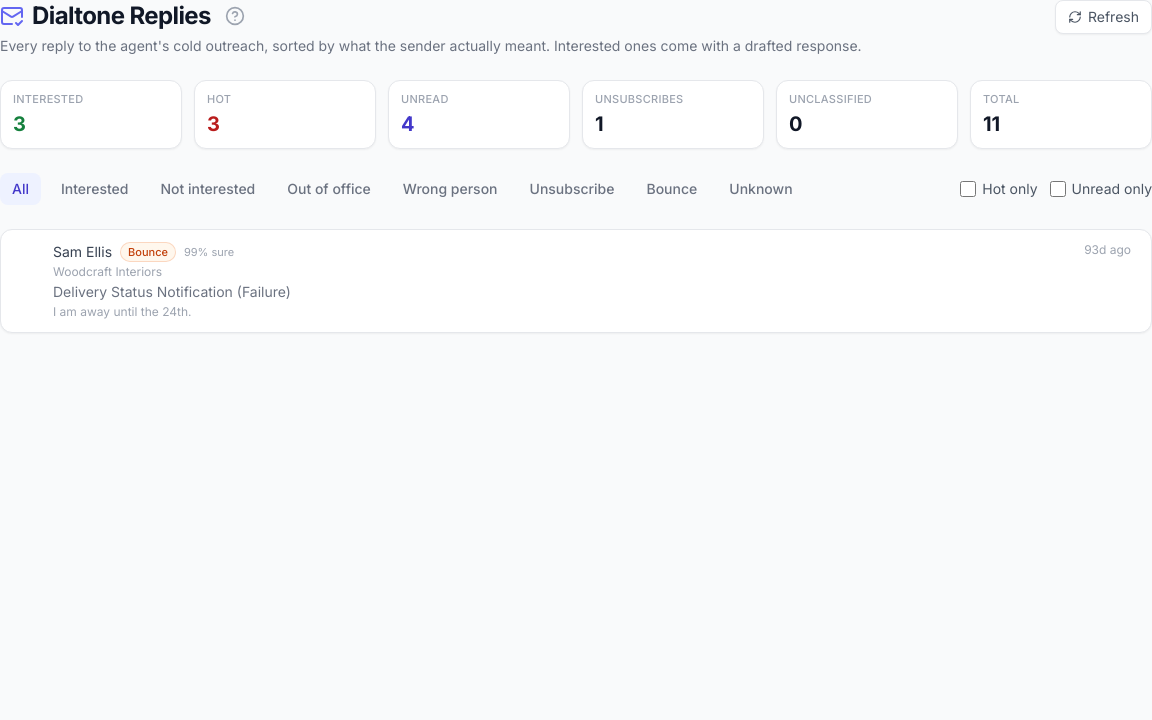
DialtoneInbox page › shows the bounce breakdown with diagnostic codes for a bounce reply
This screenshot has width=1152, height=720.
Click the text "Sam Ellis" at (82, 252), box [53,242,112,262]
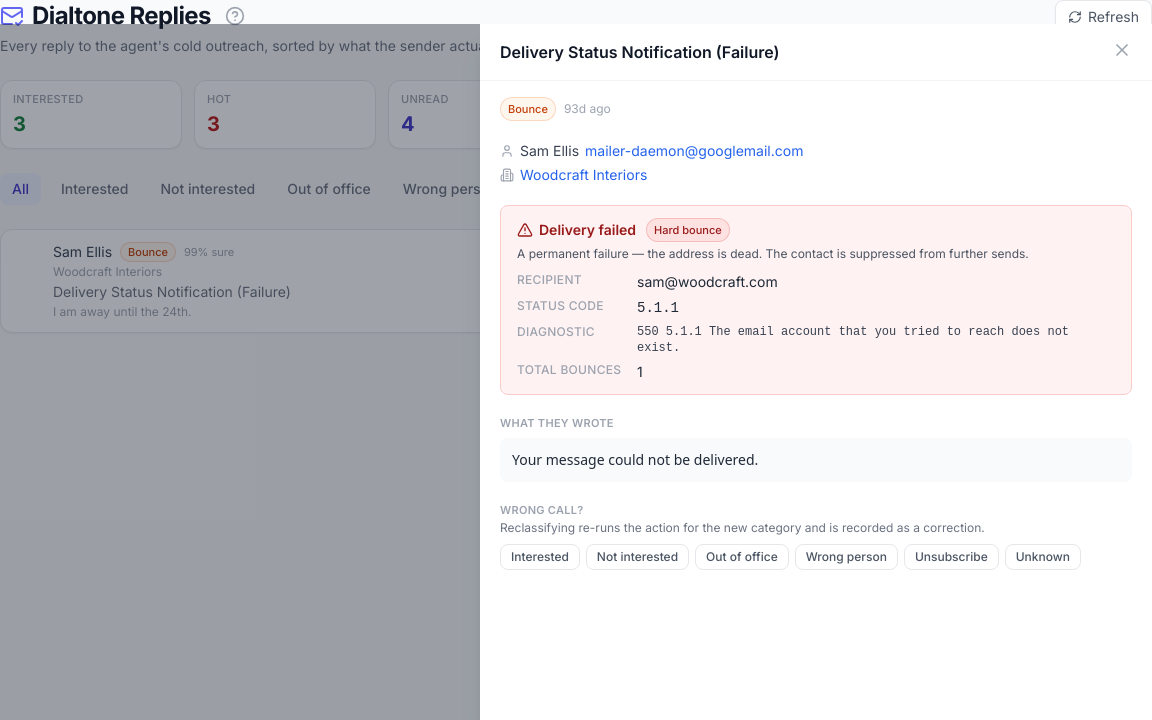
Result: the heading "Delivery failed Hard bounce" is shown at [517,218,730,242]
Result: the text "Hard bounce" is shown at [646,218,730,242]
Result: the text "5.1.1" is shown at [637,298,679,318]
